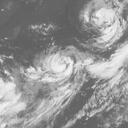cyclone: (82, 1, 125, 43), (38, 47, 82, 84)
